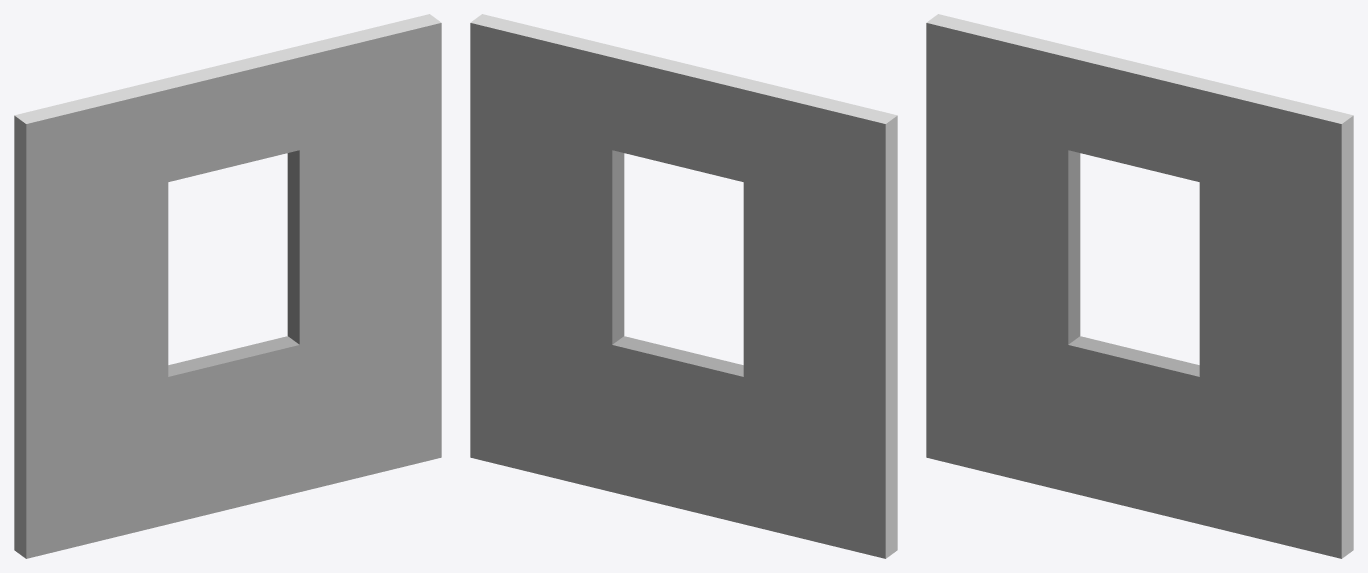
Rendered from wall_048.fbx.
The picture shows the model from 3 angles, left to right: view 1: azimuth 30°, elevation 25°; view 2: azimuth 150°, elevation 25°; view 3: azimuth 330°, elevation 25°; orthographic projection.
Visible parts, largest first — view 1: wall_048; view 2: wall_048; view 3: wall_048.
Boxes of the visible parts, box(x1,y1,x2,y2) form: wall_048: box(14, 14, 441, 558); wall_048: box(470, 14, 897, 558); wall_048: box(926, 14, 1353, 558).
Size of the model in its own units: 400 by 20 by 400.
